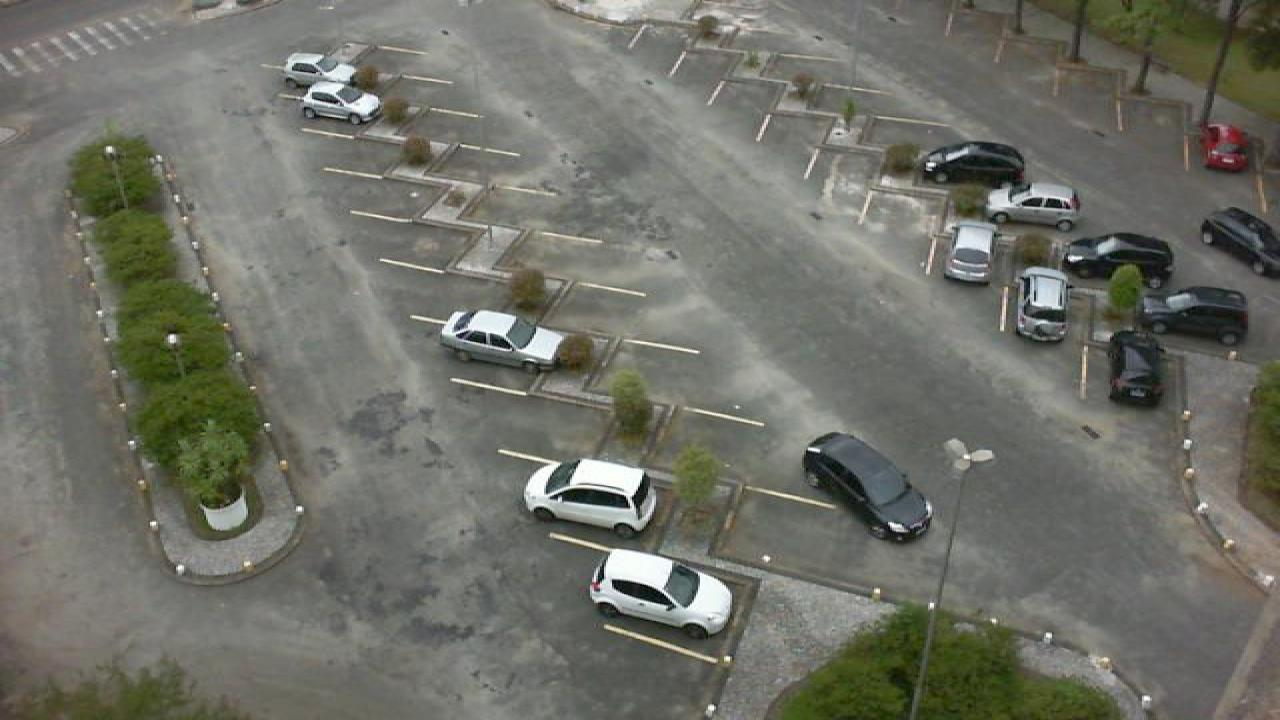Car: (800, 431, 936, 543), (586, 548, 736, 640), (522, 458, 658, 533), (438, 308, 564, 373), (1132, 286, 1252, 344), (1056, 232, 1176, 286), (1198, 204, 1280, 276), (1102, 328, 1168, 408), (984, 182, 1082, 233), (920, 140, 1026, 185), (1014, 267, 1070, 342), (942, 220, 1000, 284), (282, 52, 368, 91), (298, 86, 386, 124), (1198, 122, 1254, 172)
